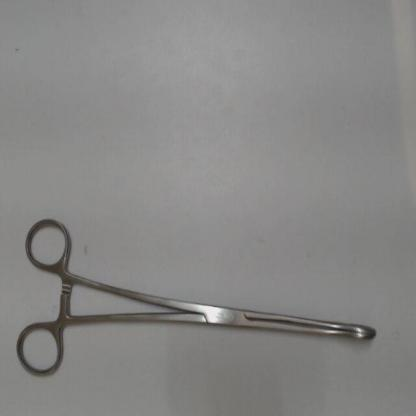Sponge Forceps: (11, 210, 389, 390)
